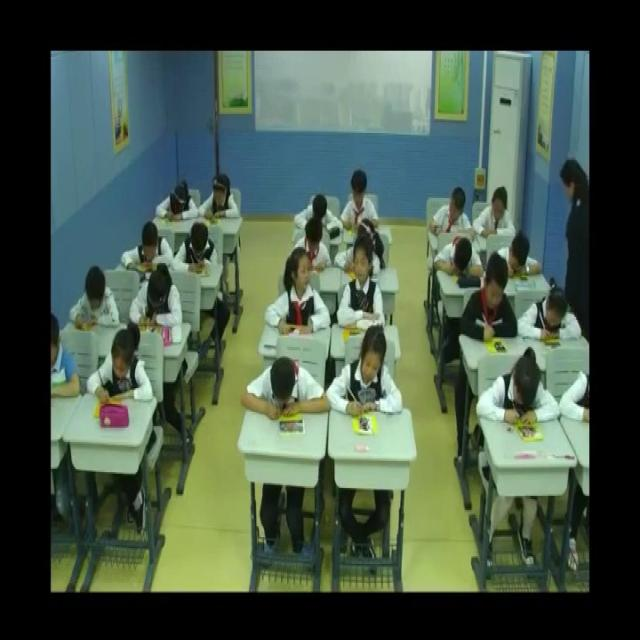distracted: (261, 246, 334, 337)
focused: (478, 348, 558, 432), (331, 329, 403, 419), (86, 323, 154, 411), (244, 354, 335, 417), (458, 253, 518, 342), (338, 235, 390, 337), (517, 277, 582, 354), (130, 264, 183, 332), (69, 268, 117, 334), (427, 184, 472, 246), (434, 231, 486, 282), (120, 224, 174, 273), (342, 169, 382, 233), (174, 223, 221, 276), (475, 186, 519, 242), (298, 216, 334, 278), (199, 172, 240, 226), (156, 183, 201, 230), (294, 194, 341, 238), (501, 234, 543, 283)
